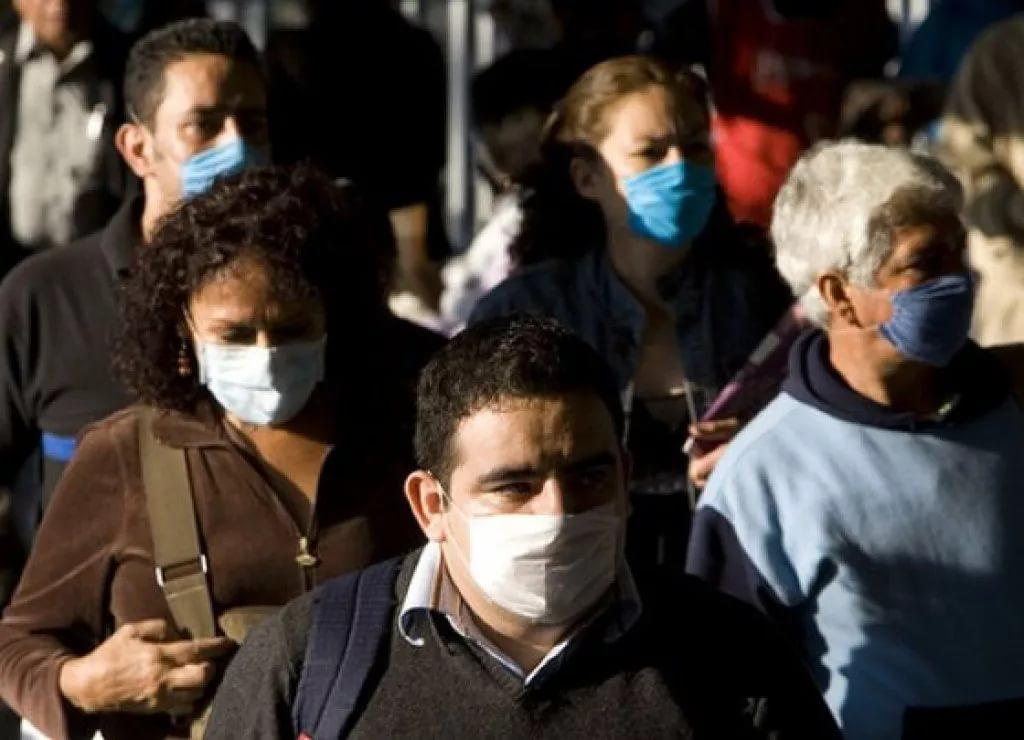mask: (448, 402, 632, 614), (181, 251, 323, 428), (889, 219, 983, 376), (173, 65, 272, 214), (617, 106, 720, 248)
